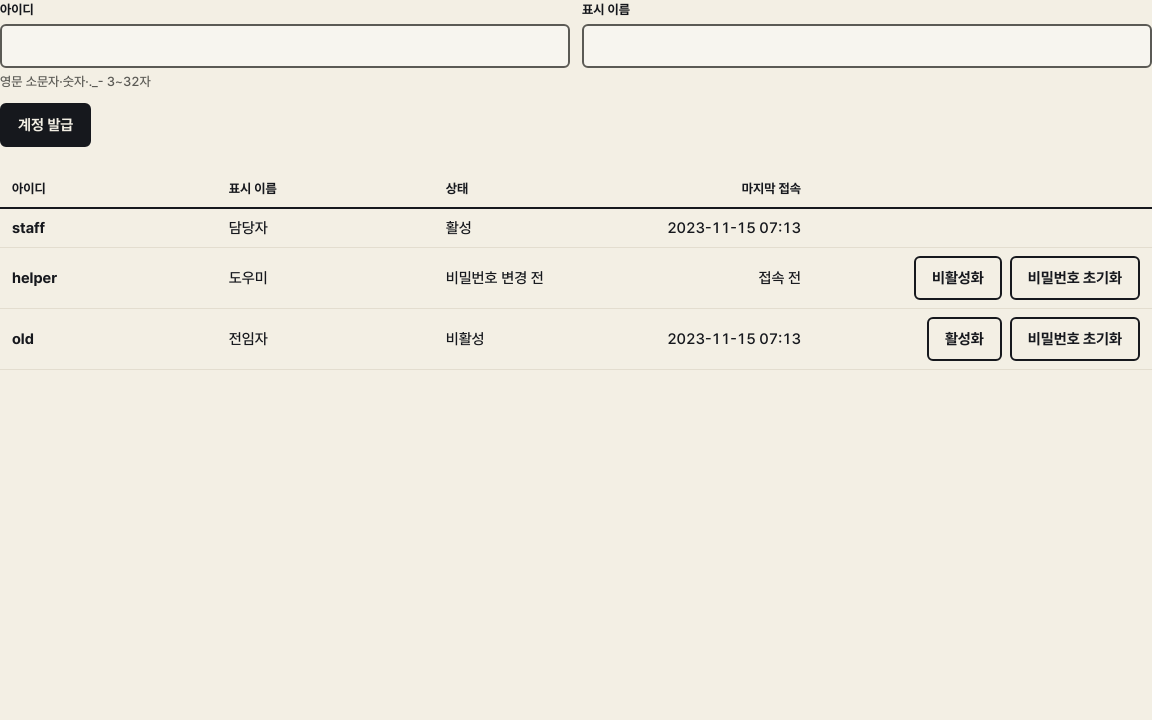
Scenario: 기관 계정 목록 › 마지막 활성 계정 409 는 문구로 보인다
Click the button with aria-label "helper 비활성화": (958, 278) [914,256,1002,300]
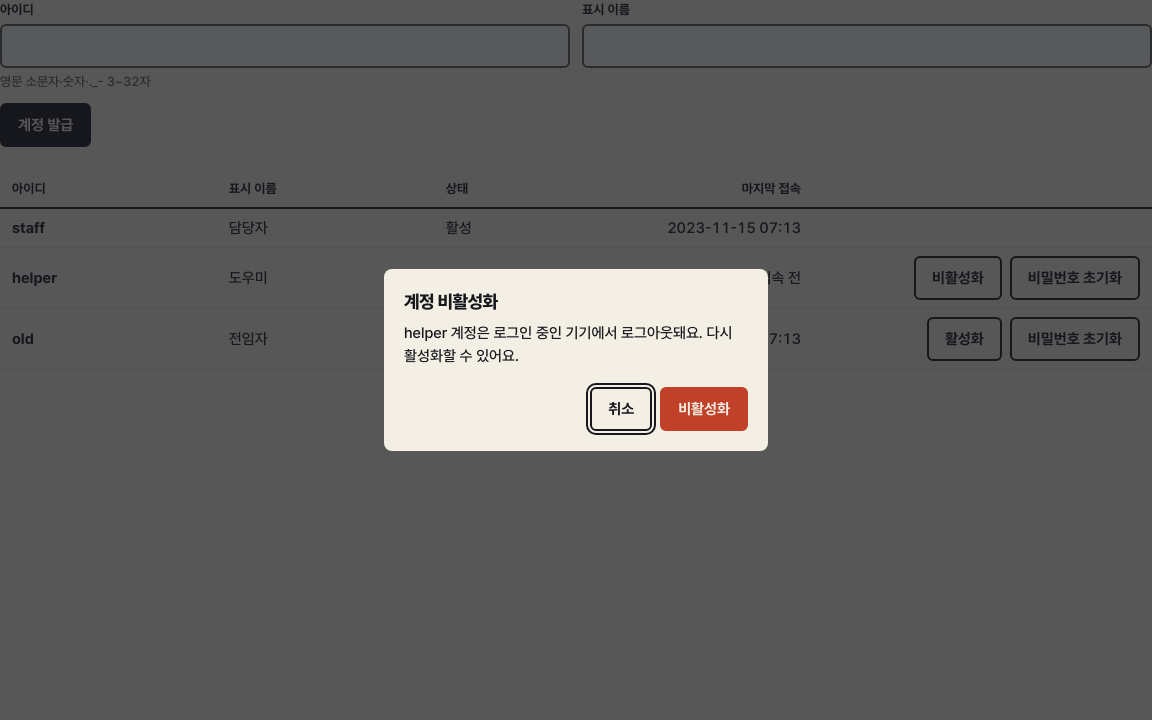
Click the button "비활성화": (704, 409) [660,387,748,431]
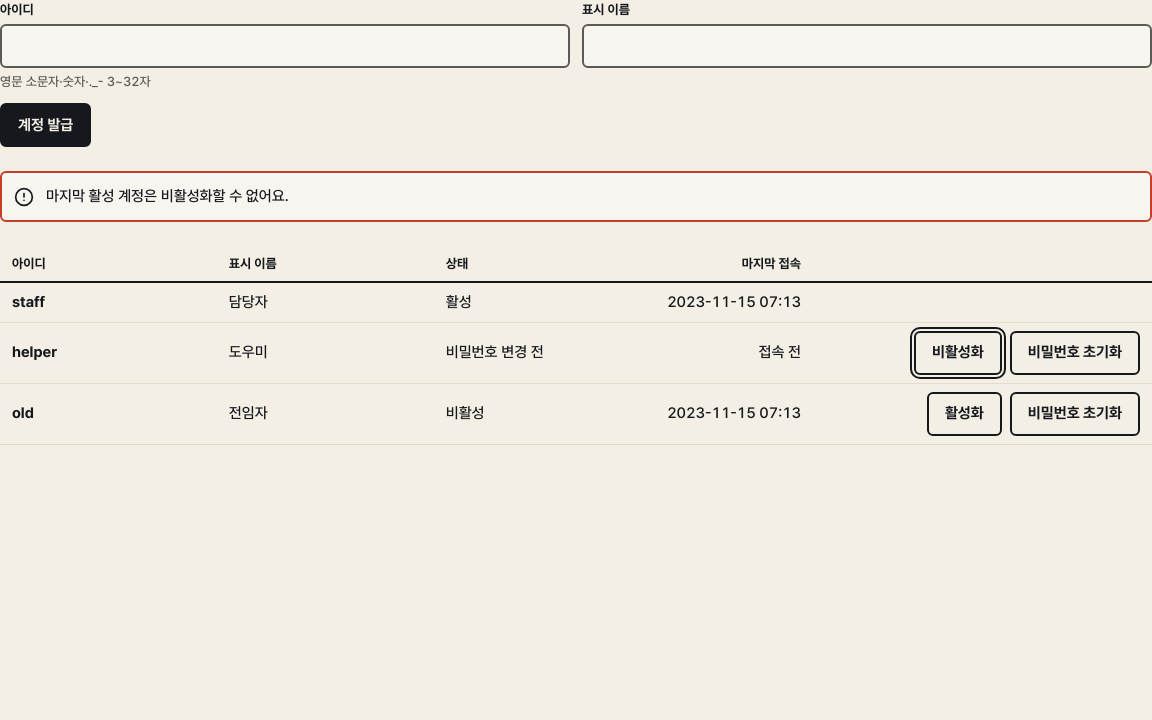
Expected: the text "마지막 활성 계정은 비활성화할 수 없어요." is shown, [46,187,289,205]
Expected: the dialog is gone
